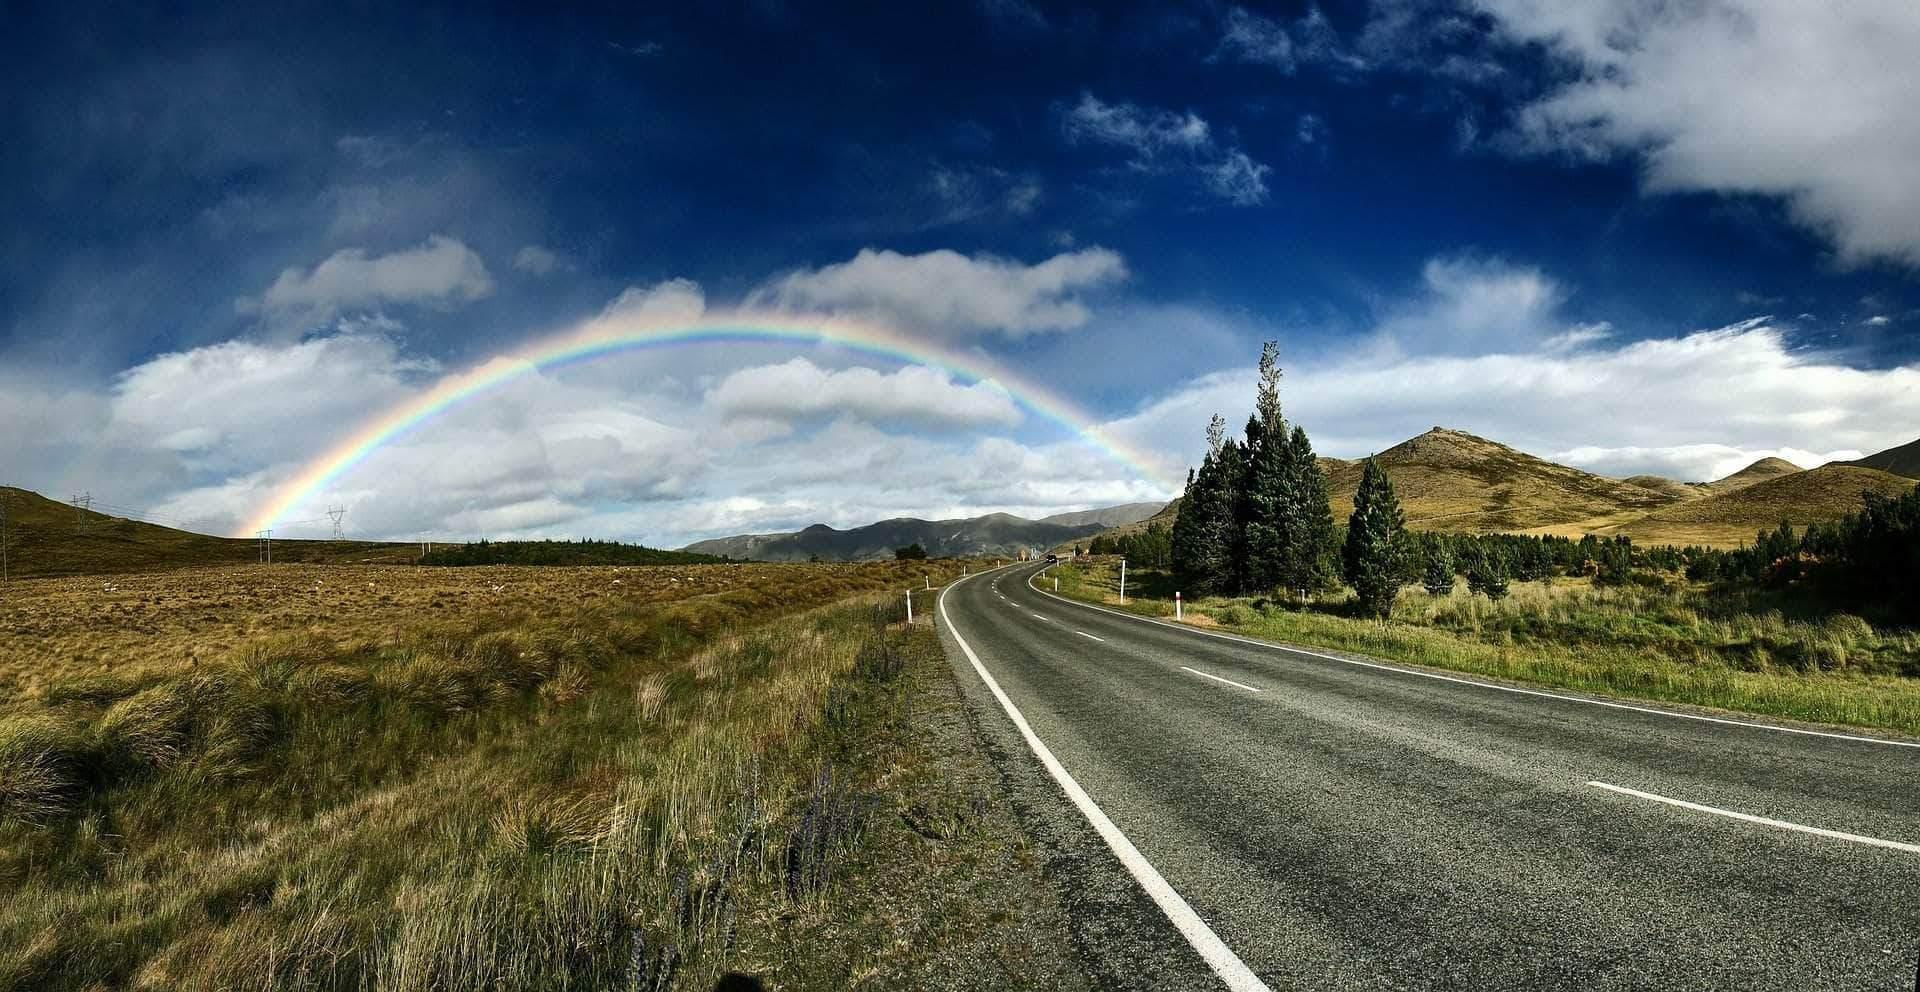cloud: (95, 301, 1090, 516), (1447, 5, 1920, 281), (1363, 287, 1920, 433)
